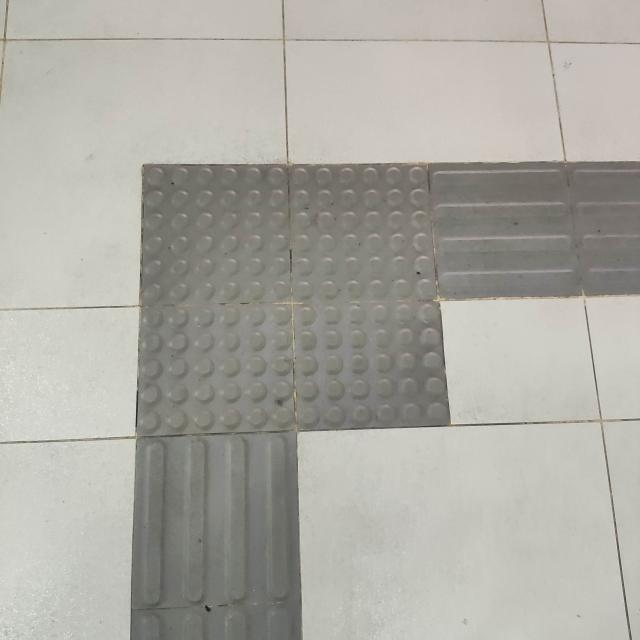kanan: (75, 125, 640, 516)
